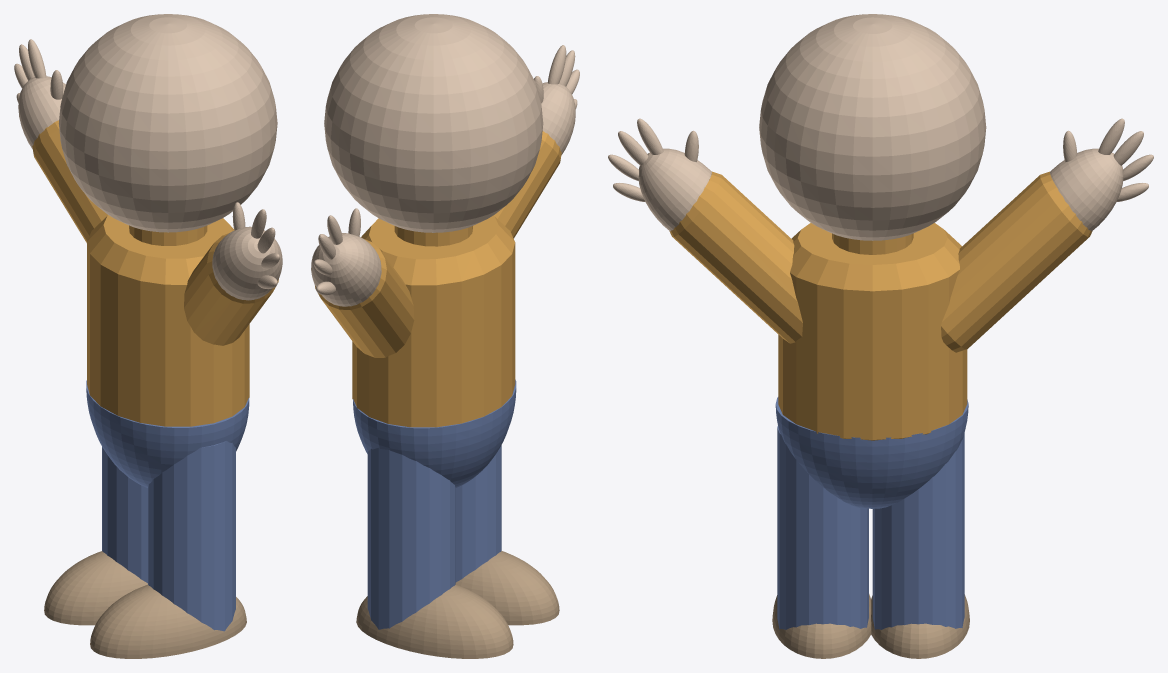
File: boy_face_front.glb
3 views of the same model, side by side, from view 1: azimuth 30°, elevation 25°; view 2: azimuth 150°, elevation 25°; view 3: azimuth 270°, elevation 25° (orthographic). The views are drawn at different scales.
Parts seen in each view (by area): view 1: Mesh_Mesh_head_geo.001_lambert2SG.001; view 2: Mesh_Mesh_head_geo.001_lambert2SG.001; view 3: Mesh_Mesh_head_geo.001_lambert2SG.001.
Boxes of the visible parts, box(x1,y1,x2,y2) form: Mesh_Mesh_head_geo.001_lambert2SG.001: box(14, 14, 282, 658); Mesh_Mesh_head_geo.001_lambert2SG.001: box(311, 14, 579, 658); Mesh_Mesh_head_geo.001_lambert2SG.001: box(608, 14, 1153, 658).
Size of the model in its own units: 2.75 by 8 by 6.5.
